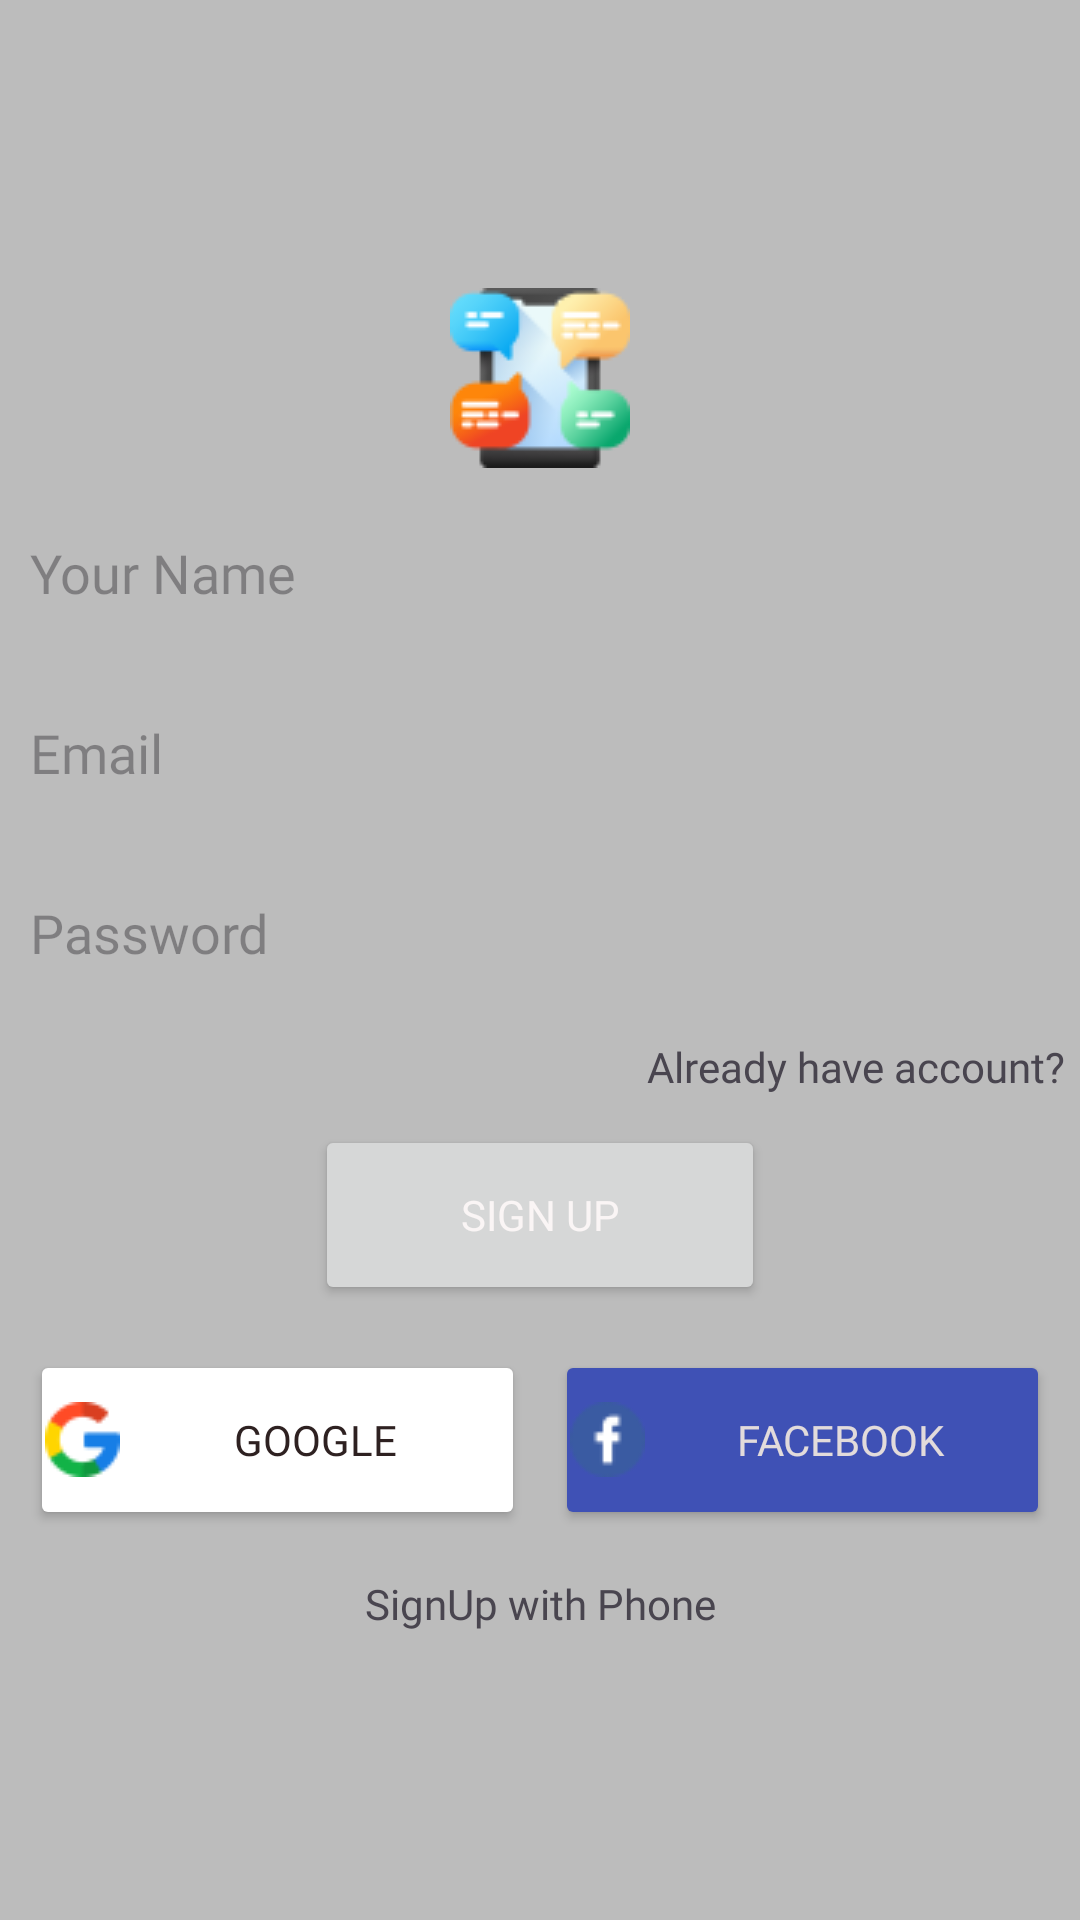

Icons on this 1080 × 1920 Android screen, each with the point to tap as (x,y):
chat: (540,378)
